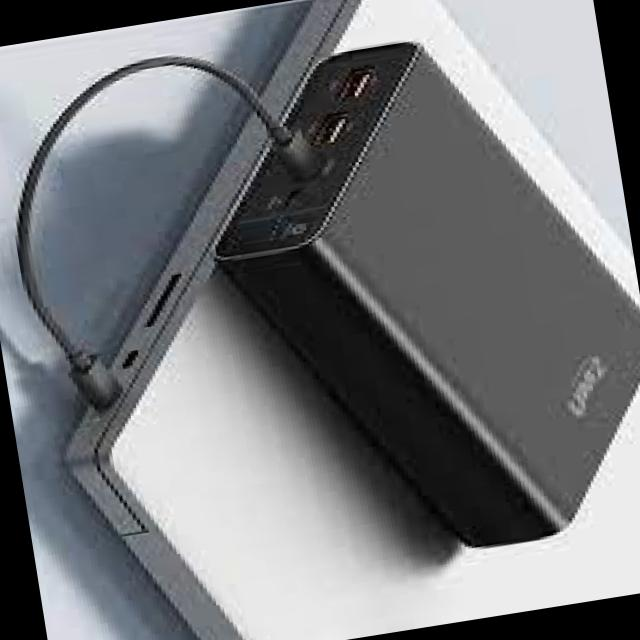power_bank: (183, 16, 640, 586)
